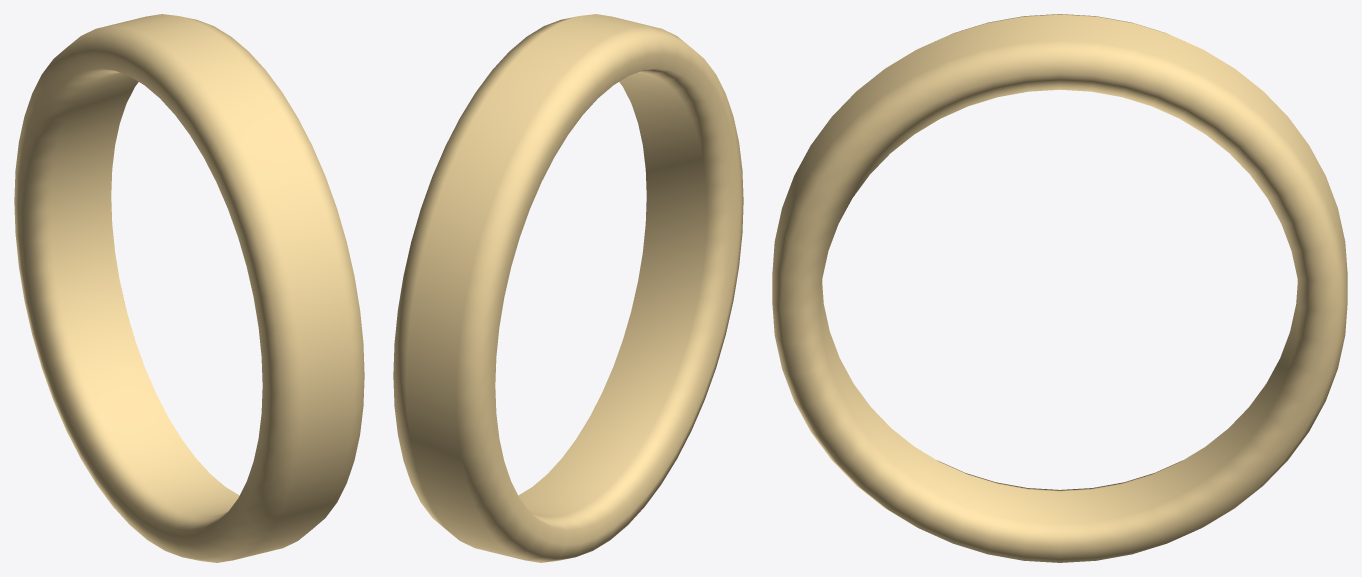
File: RingGoldBand_LOD1.obj
3 views of the same model, side by side, from view 1: azimuth 30°, elevation 25°; view 2: azimuth 150°, elevation 25°; view 3: azimuth 270°, elevation 25° (orthographic). The views are drawn at different scales.
Visible parts, largest first — view 1: Gold18k; view 2: Gold18k; view 3: Gold18k.
Boxes of the visible parts, box(x1,y1,x2,y2) form: Gold18k: box(14, 14, 364, 562); Gold18k: box(393, 14, 743, 562); Gold18k: box(772, 14, 1347, 562).
Size of the model in its own units: 0.004 by 0.0207 by 0.0207.
